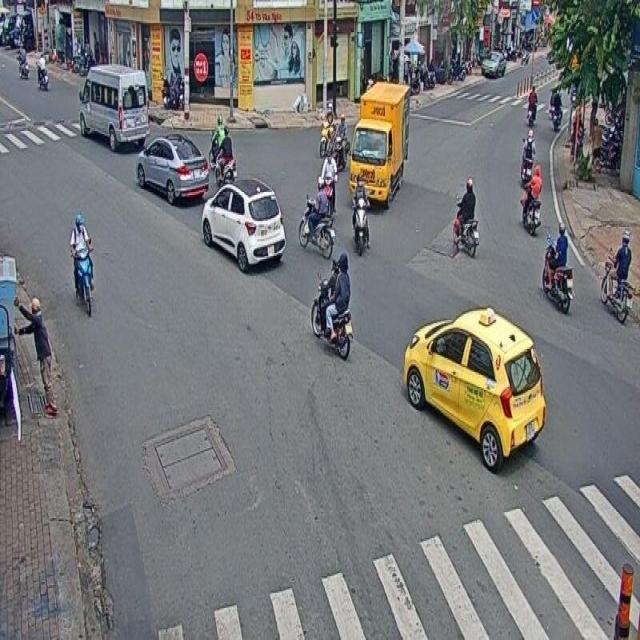car: (401, 305, 543, 472), (202, 177, 286, 273), (82, 67, 155, 146)
motorcycle: (310, 250, 352, 356), (602, 224, 632, 323), (302, 172, 336, 255), (542, 222, 570, 312), (450, 178, 480, 258), (350, 172, 373, 255), (520, 163, 542, 233), (214, 123, 237, 186), (320, 148, 338, 216), (520, 128, 535, 187)
truck: (348, 78, 410, 210), (137, 134, 209, 213)
